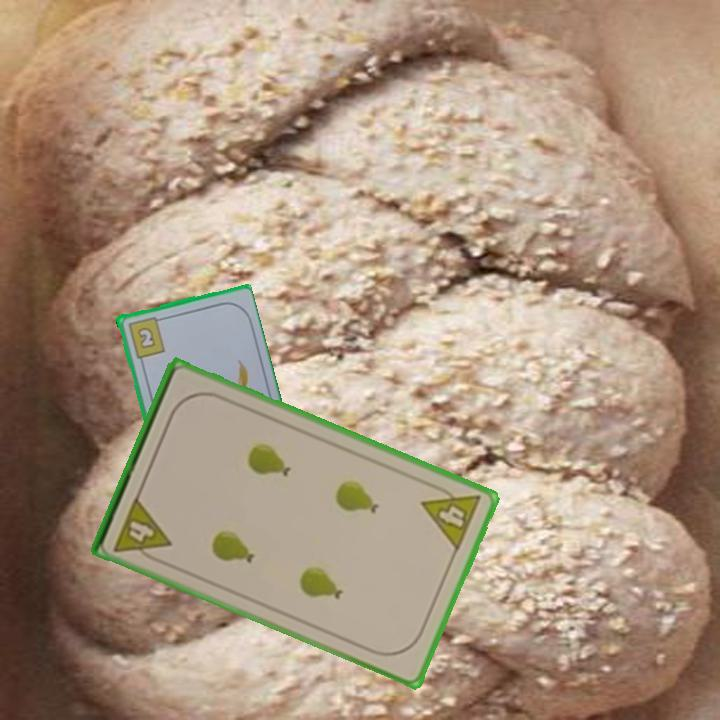2b: (124, 313, 167, 361)
4p: (418, 478, 484, 554), (110, 492, 174, 566)
